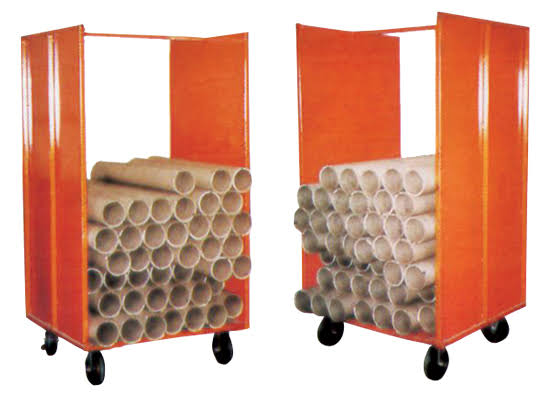Carts: (290, 11, 530, 381), (18, 30, 254, 384)
